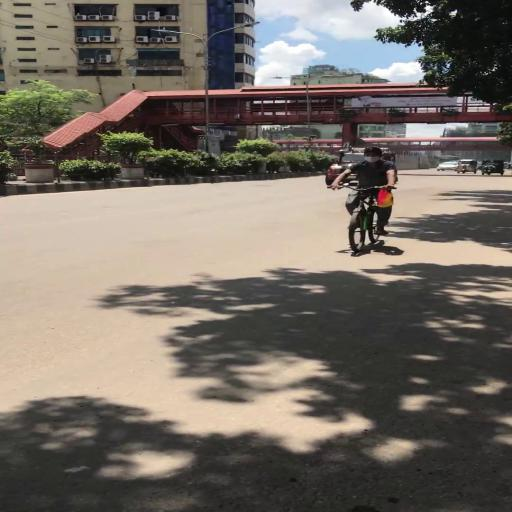bicycle: (325, 174, 397, 254)
car: (436, 162, 459, 172)
three wheelers (CNG): (481, 159, 506, 177), (457, 159, 479, 175)
